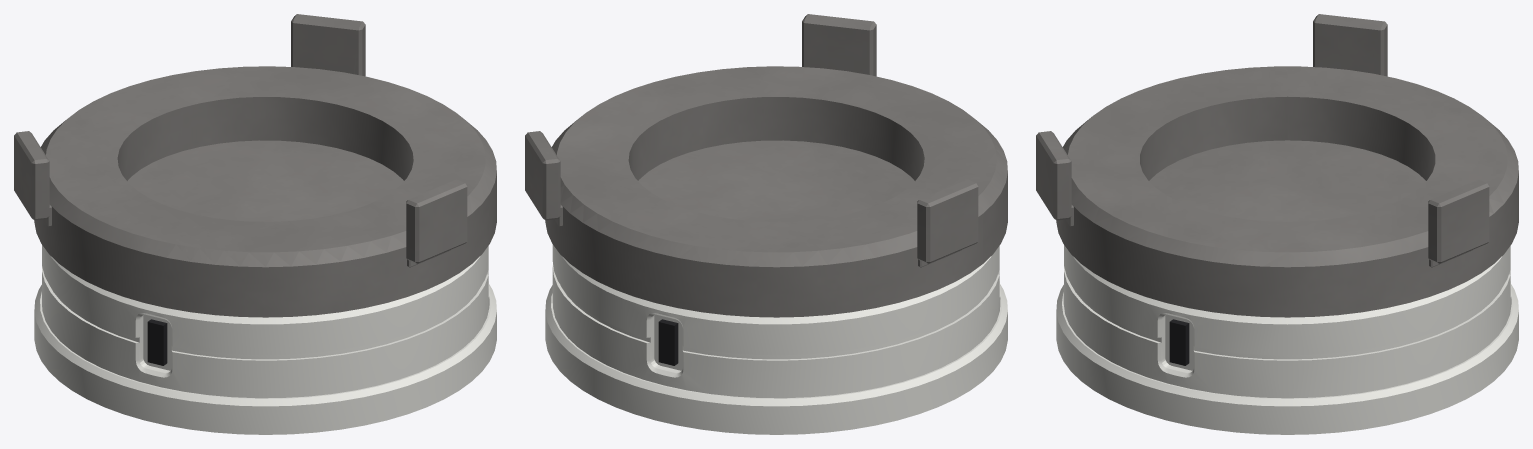
Rendered from ax_util_01_idss_port.glb.
The picture shows the model from 3 angles, left to right: view 1: azimuth 30°, elevation 25°; view 2: azimuth 150°, elevation 25°; view 3: azimuth 270°, elevation 25°; orthographic projection.
Visible parts, largest first — view 1: soft_capture_ring, collar_body, mount_ring, hatch_door_1, soft_capture_ring_petals, capture_actuators; view 2: soft_capture_ring, collar_body, mount_ring, hatch_door_1, soft_capture_ring_petals, capture_actuators; view 3: soft_capture_ring, collar_body, mount_ring, hatch_door_1, soft_capture_ring_petals, capture_actuators.
Part boxes in pixels (x1,y1,x2,y2): soft_capture_ring: [34, 66, 496, 317]; collar_body: [42, 245, 489, 398]; mount_ring: [34, 284, 496, 434]; hatch_door_1: [127, 140, 403, 221]; soft_capture_ring_petals: [14, 14, 467, 267]; capture_actuators: [147, 319, 167, 365]; soft_capture_ring: [545, 66, 1007, 317]; collar_body: [552, 244, 1000, 398]; mount_ring: [545, 284, 1007, 434]; hatch_door_1: [638, 140, 914, 221]; soft_capture_ring_petals: [525, 14, 978, 267]; capture_actuators: [658, 319, 678, 365]; soft_capture_ring: [1056, 66, 1518, 317]; collar_body: [1063, 245, 1511, 398]; mount_ring: [1056, 284, 1518, 434]; hatch_door_1: [1149, 140, 1425, 221]; soft_capture_ring_petals: [1036, 14, 1489, 267]; capture_actuators: [1169, 319, 1189, 365].
Bounding box in the file's own units: 1.3 × 0.65 × 1.3.
3 materials, 1 textured.
